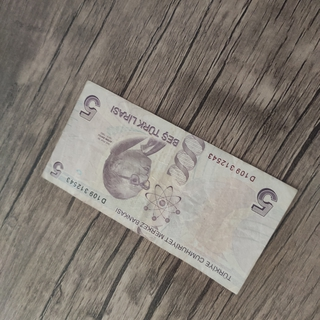5TLBack: (39, 79, 300, 296)
